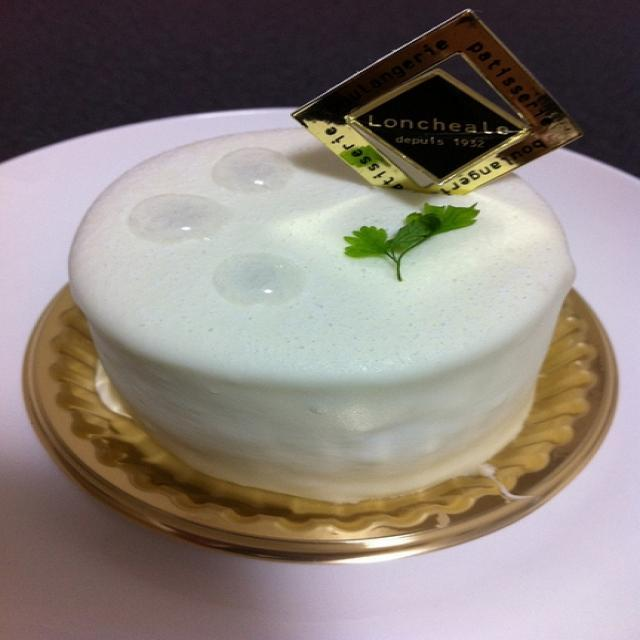Rare cheese cake: (46, 66, 606, 556)
